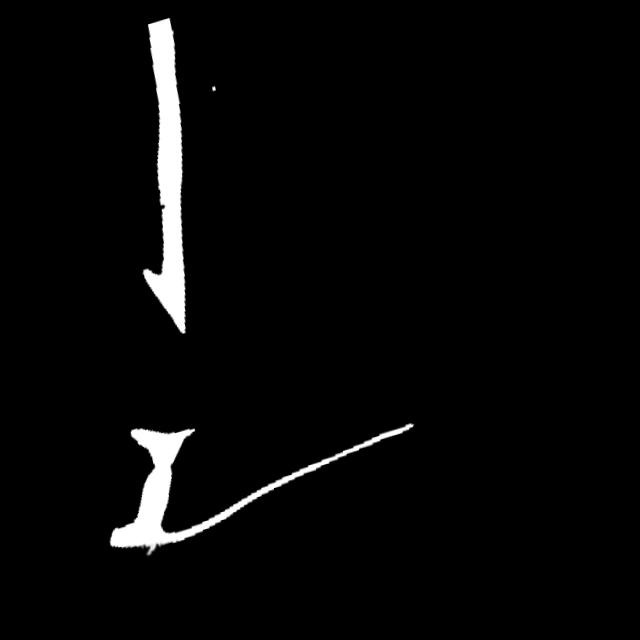sup_pli: (145, 538, 169, 566)
